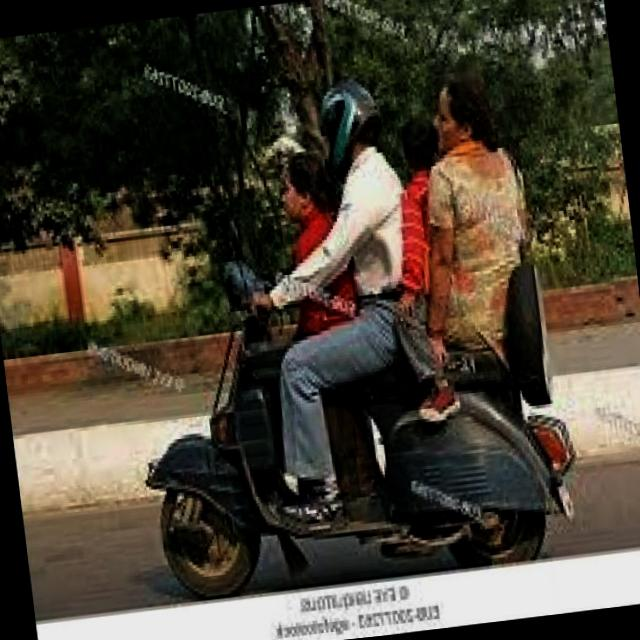motorcycle: (111, 226, 577, 602)
person: (408, 58, 550, 420), (303, 69, 449, 396), (259, 145, 367, 378), (379, 106, 473, 354)
rider_region: (96, 55, 578, 604)
